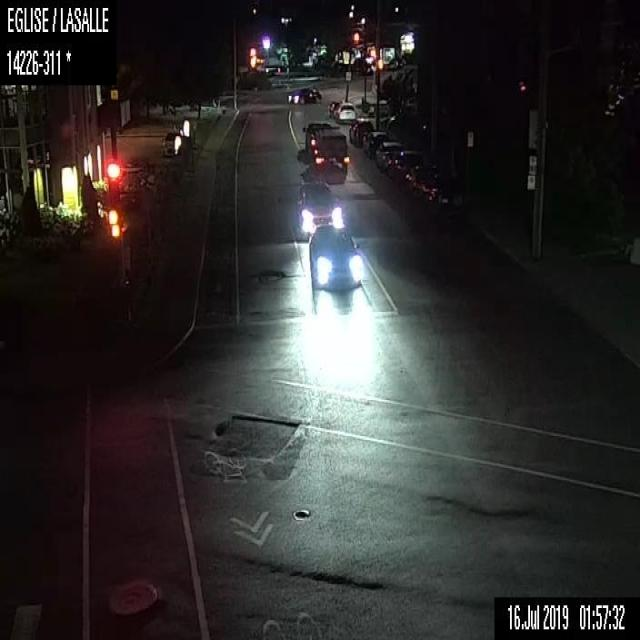vehicle: (305, 219, 365, 292), (292, 179, 344, 238), (425, 166, 464, 219), (308, 132, 348, 178), (393, 149, 424, 190), (300, 119, 337, 153), (404, 163, 432, 196), (285, 86, 323, 106), (346, 115, 371, 144), (161, 122, 183, 154), (374, 139, 399, 167), (362, 129, 386, 157), (337, 98, 354, 120), (327, 100, 341, 118)
